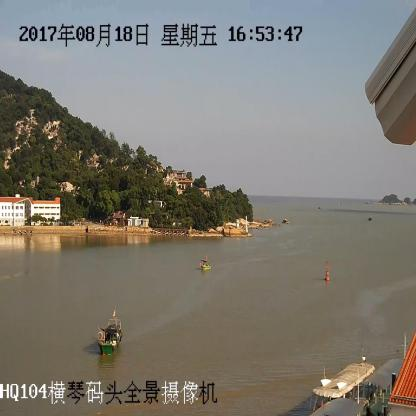Fishing Boat: (97, 321, 124, 351), (199, 259, 211, 270)
